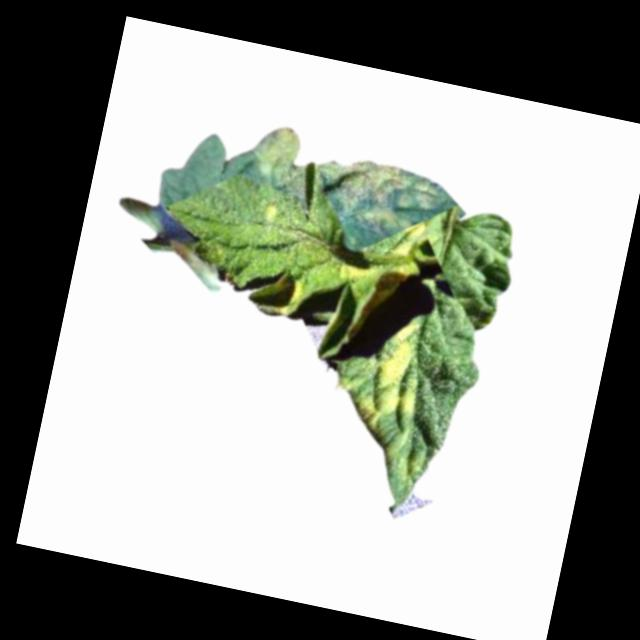Leaf_Mold: (243, 123, 445, 237), (351, 317, 437, 438), (337, 209, 427, 323), (243, 265, 308, 322), (256, 200, 283, 230)
